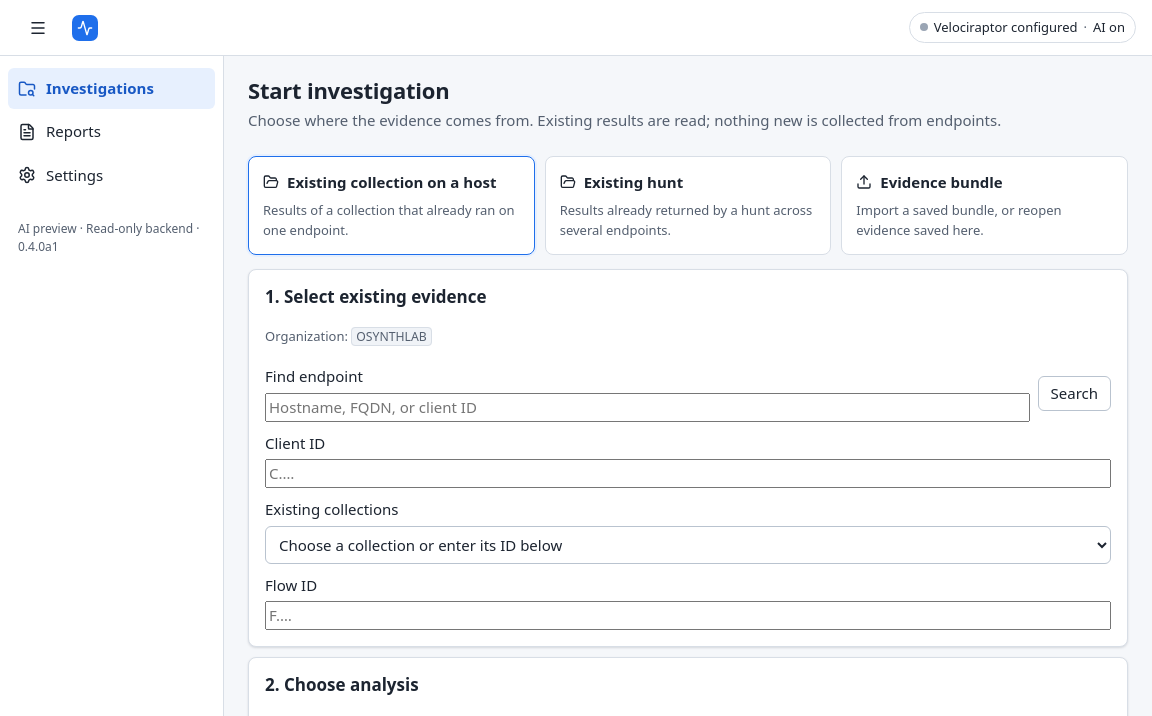
Test case: Read-only investigation scope › refuses a returned plan that claims to launch a collection
This screenshot has width=1152, height=716.
Type "C.1a2b3c" into the field labelled "Client ID".
click(688, 474); type("C.1a2b3c")  # box [265, 459, 1111, 488]
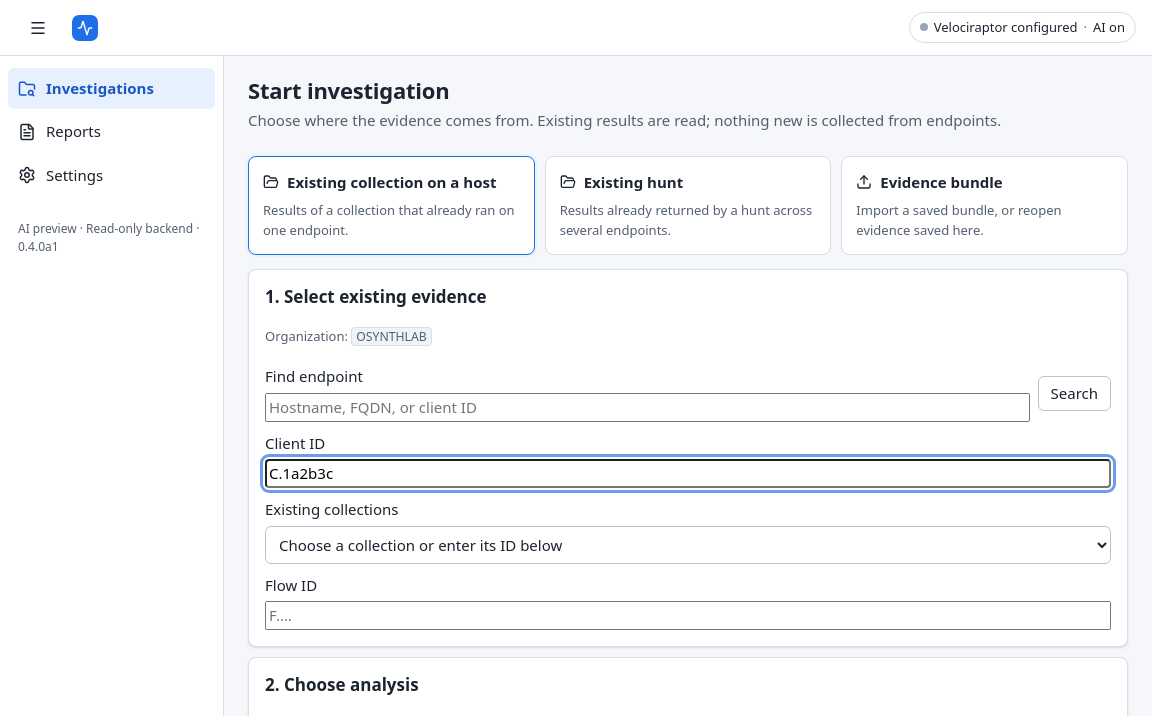
Type "F.ABC" into the field labelled "Flow ID".
click(688, 616); type("F.ABC")  # box [265, 601, 1111, 630]
(page scrolled)
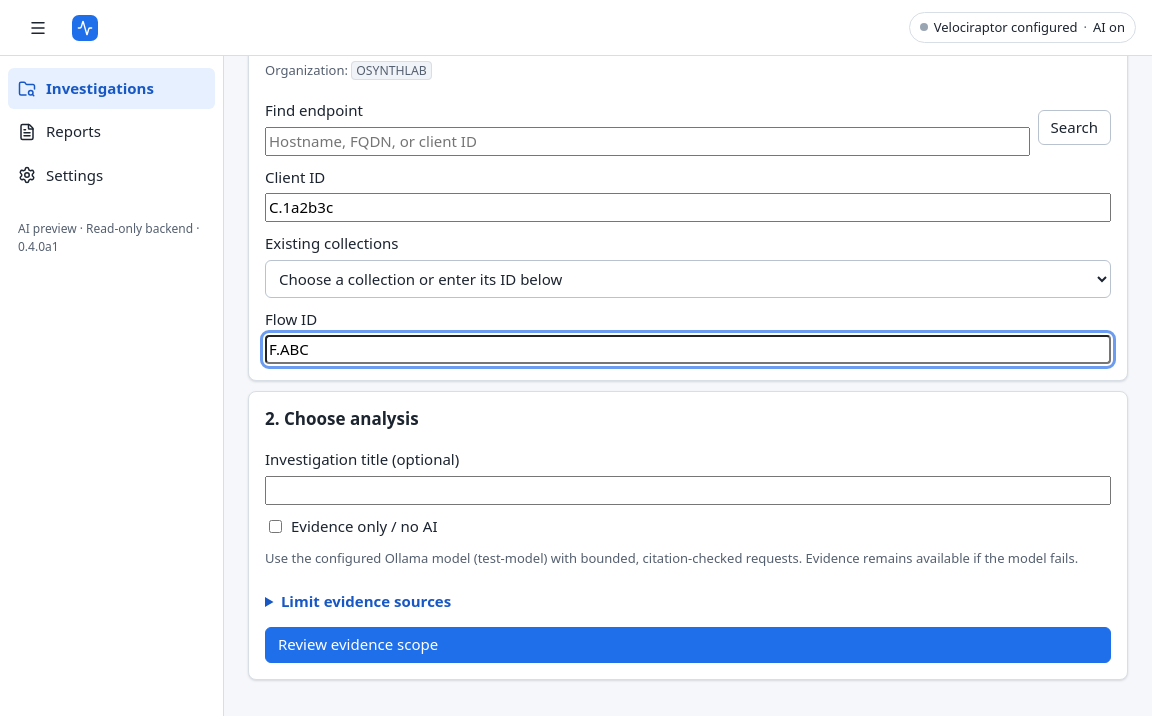
Click the button "Review evidence scope".
click(358, 644)  # box [265, 627, 1111, 663]
(page scrolled)
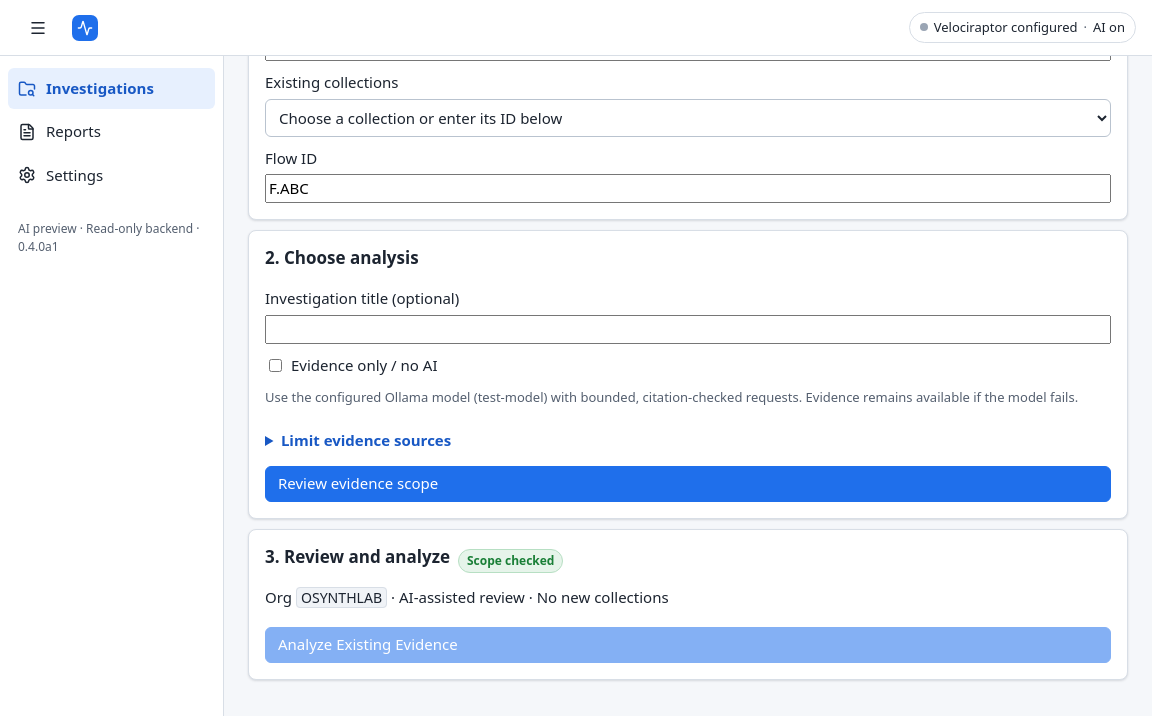
Check: the button "Analyze Existing Evidence" is disabled, box [265, 627, 1111, 663]
